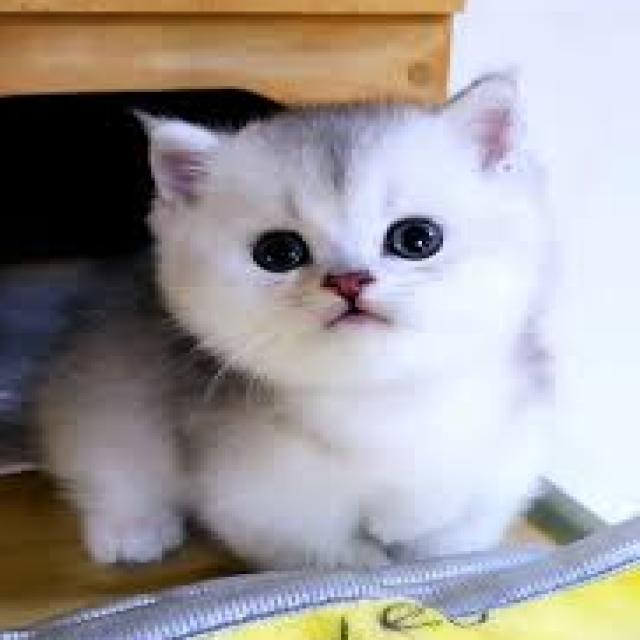Munchkin: (24, 70, 566, 576)
